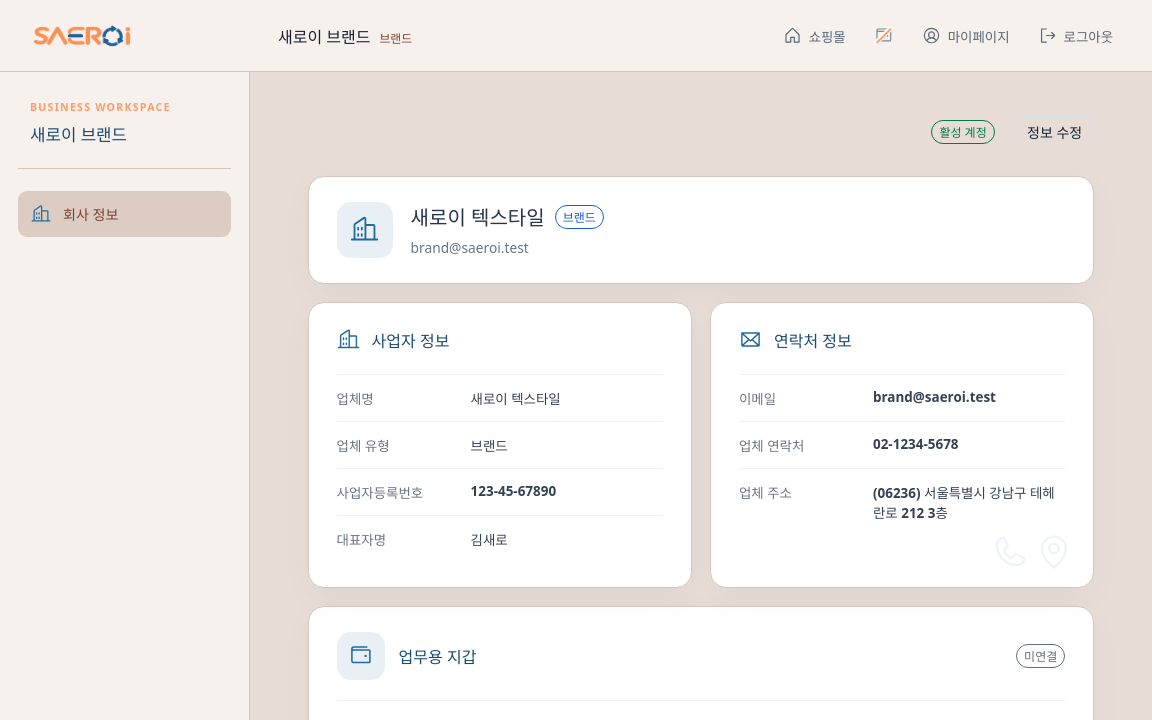
업체 정보 수정 › 저장이 성공하면 조회로 돌아가고 고친 값이 보인다
Click the button "정보 수정": (1055, 132) [1015,116,1094,148]
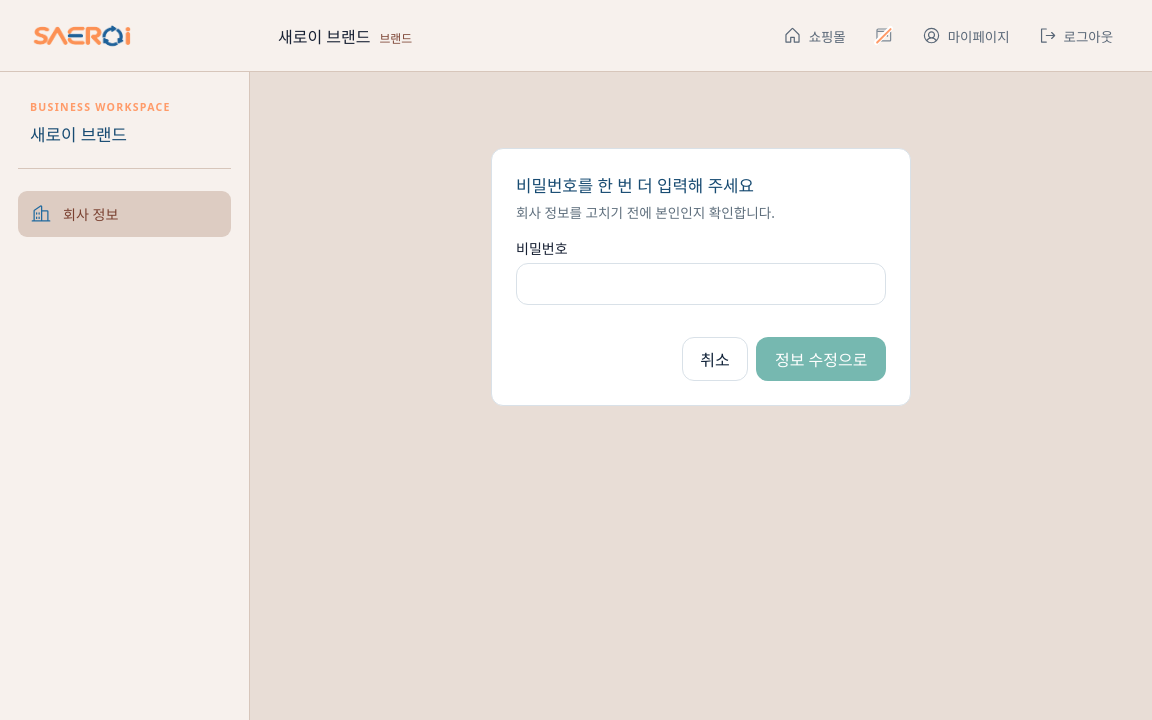
In the password field labelled "비밀번호": (701, 284) [516,263,886,305], type "Pw1234!!"
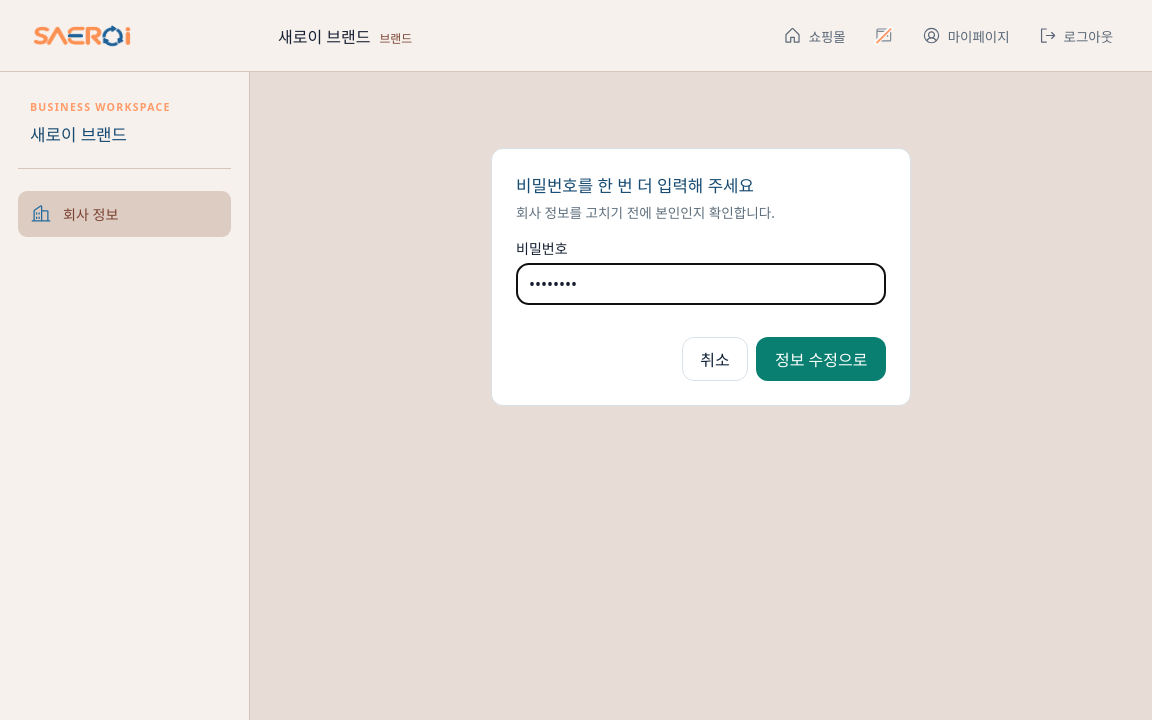
Click the button "정보 수정으로": (821, 359) [756,337,886,381]
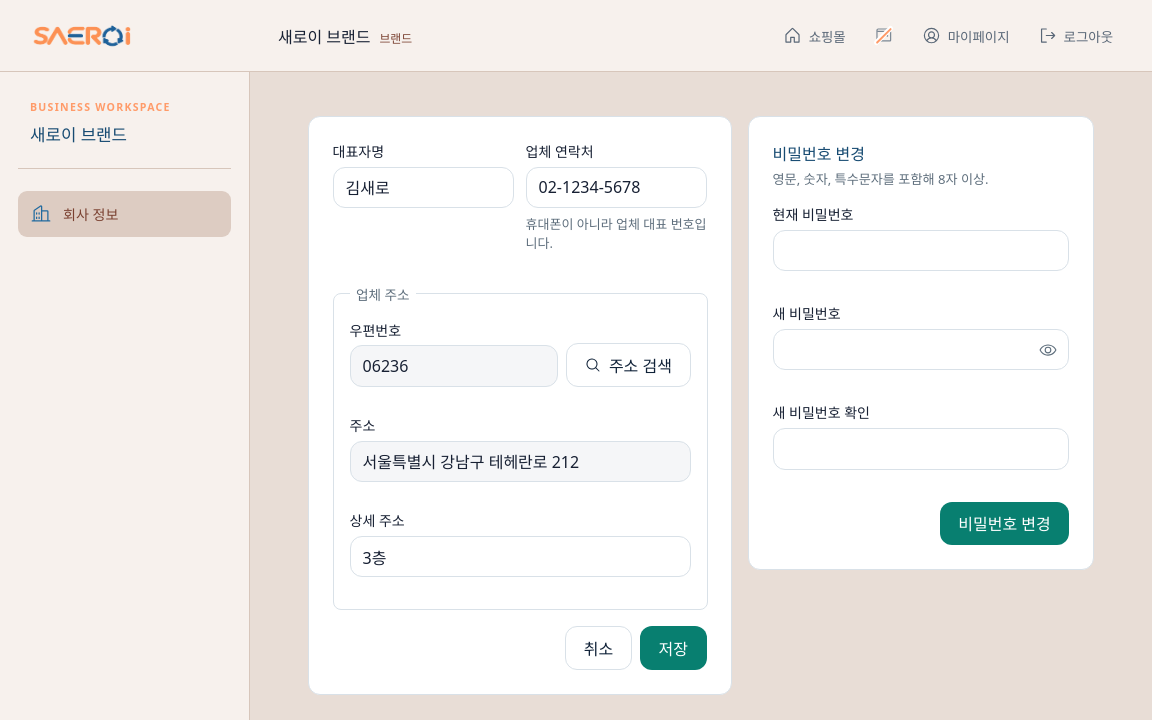
Replace the text in the field labelled "대표자명" with "박새로": (423, 187) [333,167,514,208]
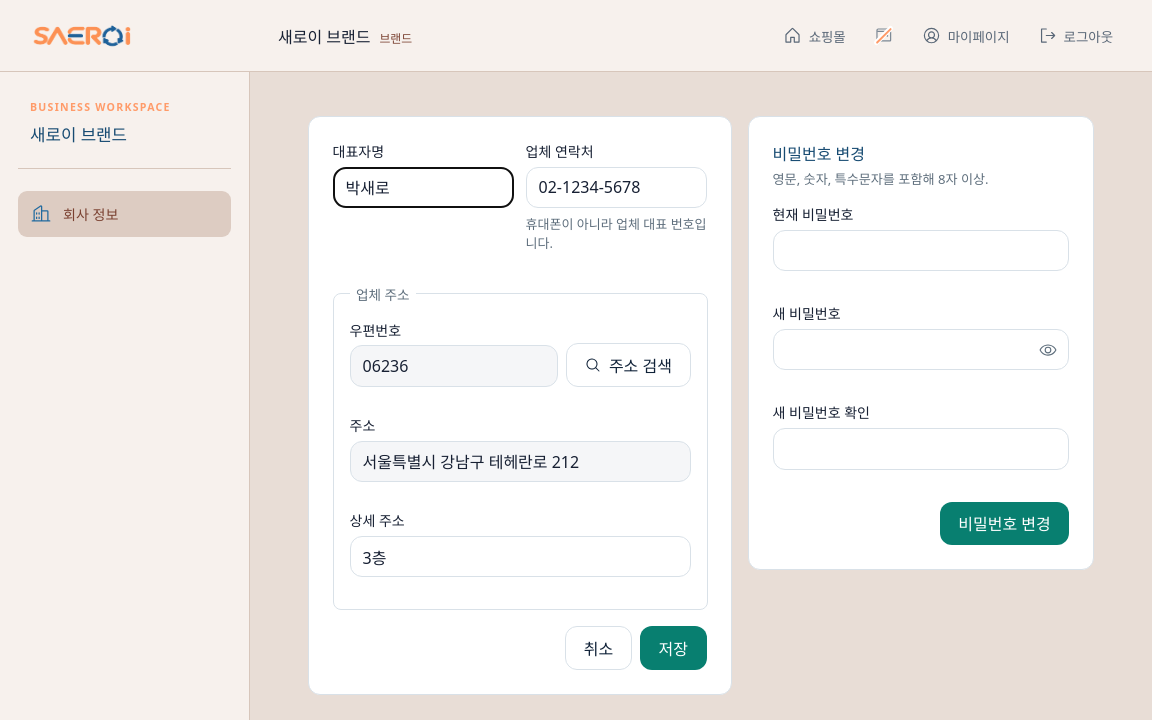
Click the button "저장": (673, 648) [640,626,706,670]
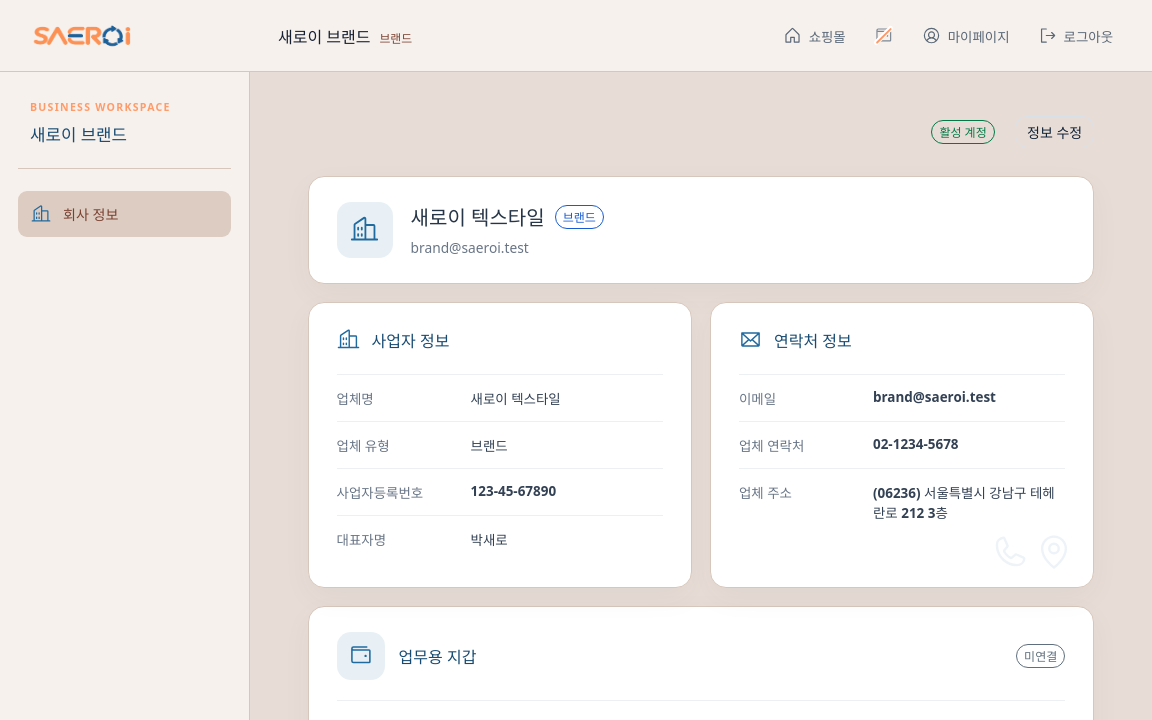
expect the text "박새로" is shown: met, box [471,531,508,549]
